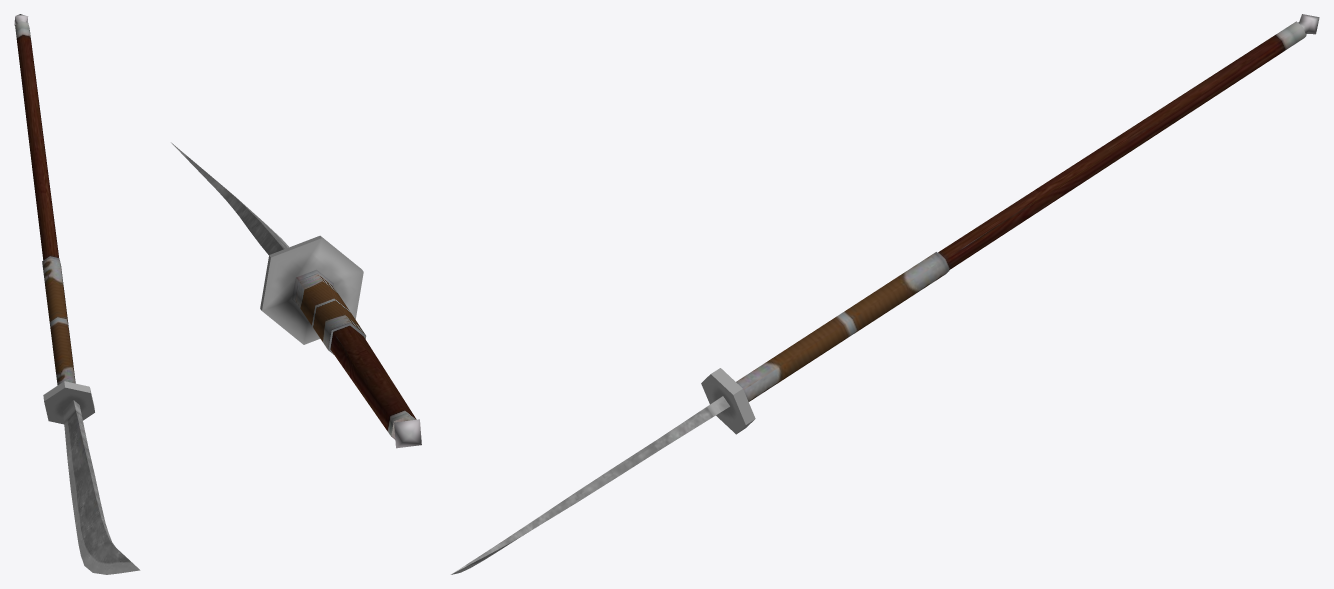
File: rider-weapon-slice-bronzeweapons.glb
The picture shows the model from 3 angles, left to right: view 1: azimuth 30°, elevation 25°; view 2: azimuth 210°, elevation 25°; view 3: azimuth 330°, elevation 25°; orthographic projection. The views are drawn at different scales.
Size of the model in its own units: 1.07 by 0.8131 by 2.51.
Materials: 1 (1 with a texture image).
